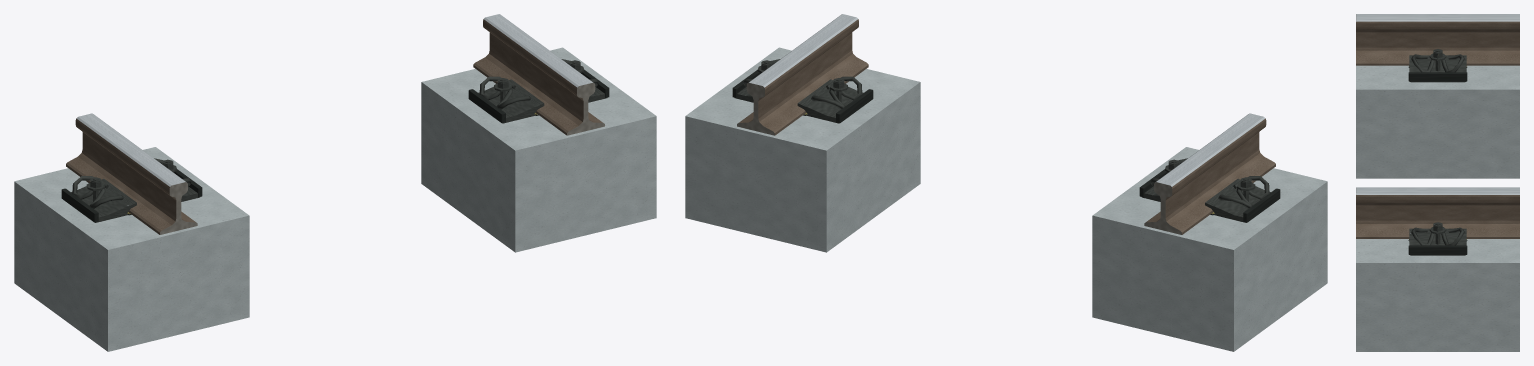
Rendered from direct_high.obj.
The picture shows the model from 3 angles, left to right: view 1: azimuth 30°, elevation 25°; view 2: azimuth 150°, elevation 25°; view 3: azimuth 270°, elevation 25°; orthographic projection. The views are drawn at different scales.
Parts seen in each view (by area): view 1: direct_bearer, rail_left, rail_right, fastener_right, fastener_left, rail_left_end, rail_right_end; view 2: direct_bearer, rail_left, rail_right, fastener_right, fastener_left, rail_left_end, rail_right_end; view 3: direct_bearer, rail_right, rail_left, fastener_left, fastener_right.
Part boxes in pixels (x1,y1,x2,y2): direct_bearer: (14,47,656,351); rail_left: (66,113,195,234); rail_right: (473,14,602,135); fastener_right: (468,59,609,123); fastener_left: (61,158,202,222); rail_left_end: (160,182,197,234); rail_right_end: (567,83,604,135); direct_bearer: (685,47,1327,351); rail_left: (1146,113,1275,234); rail_right: (739,14,868,135); fastener_right: (732,59,873,123); fastener_left: (1139,158,1280,222); rail_left_end: (1144,182,1181,234); rail_right_end: (737,83,774,135); direct_bearer: (1356,65,1519,351); rail_right: (1356,187,1519,238); rail_left: (1356,14,1519,65); fastener_left: (1408,49,1467,82); fastener_right: (1408,222,1467,255).
Size of the model in its own units: 2.03 by 0.5324 by 0.6.
1 material, 1 textured.
